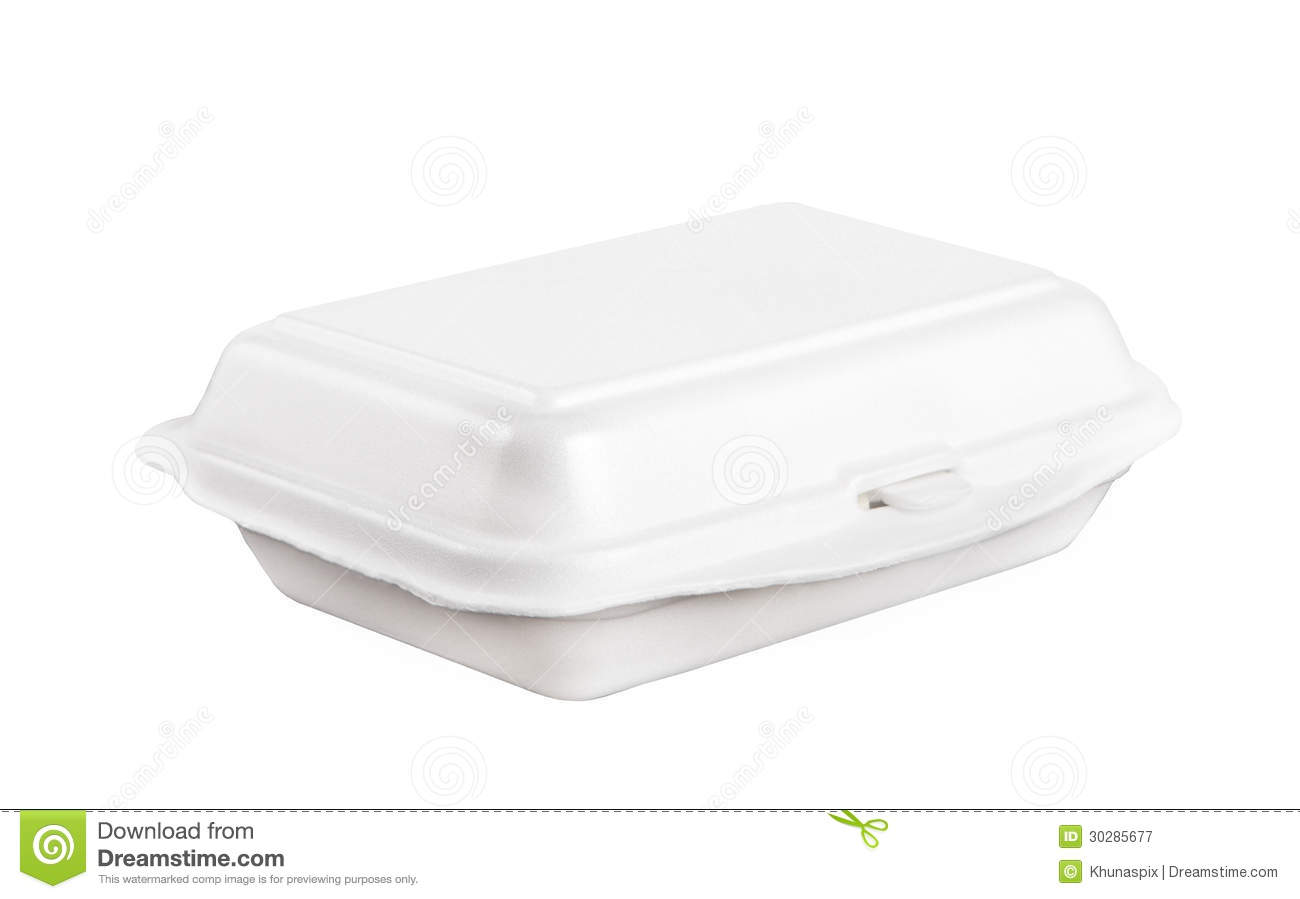Foam Box: (125, 194, 1196, 708)
